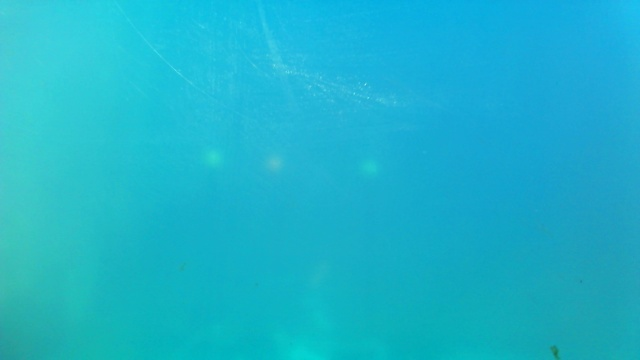buoy_red: (263, 154, 280, 173)
